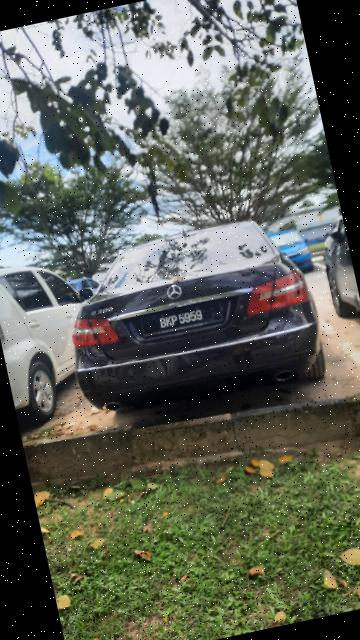License_Plate: (137, 297, 229, 343)
car: (53, 204, 339, 432)
